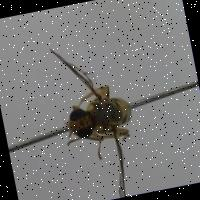Oriental-fruit-fly: (37, 31, 154, 200)
